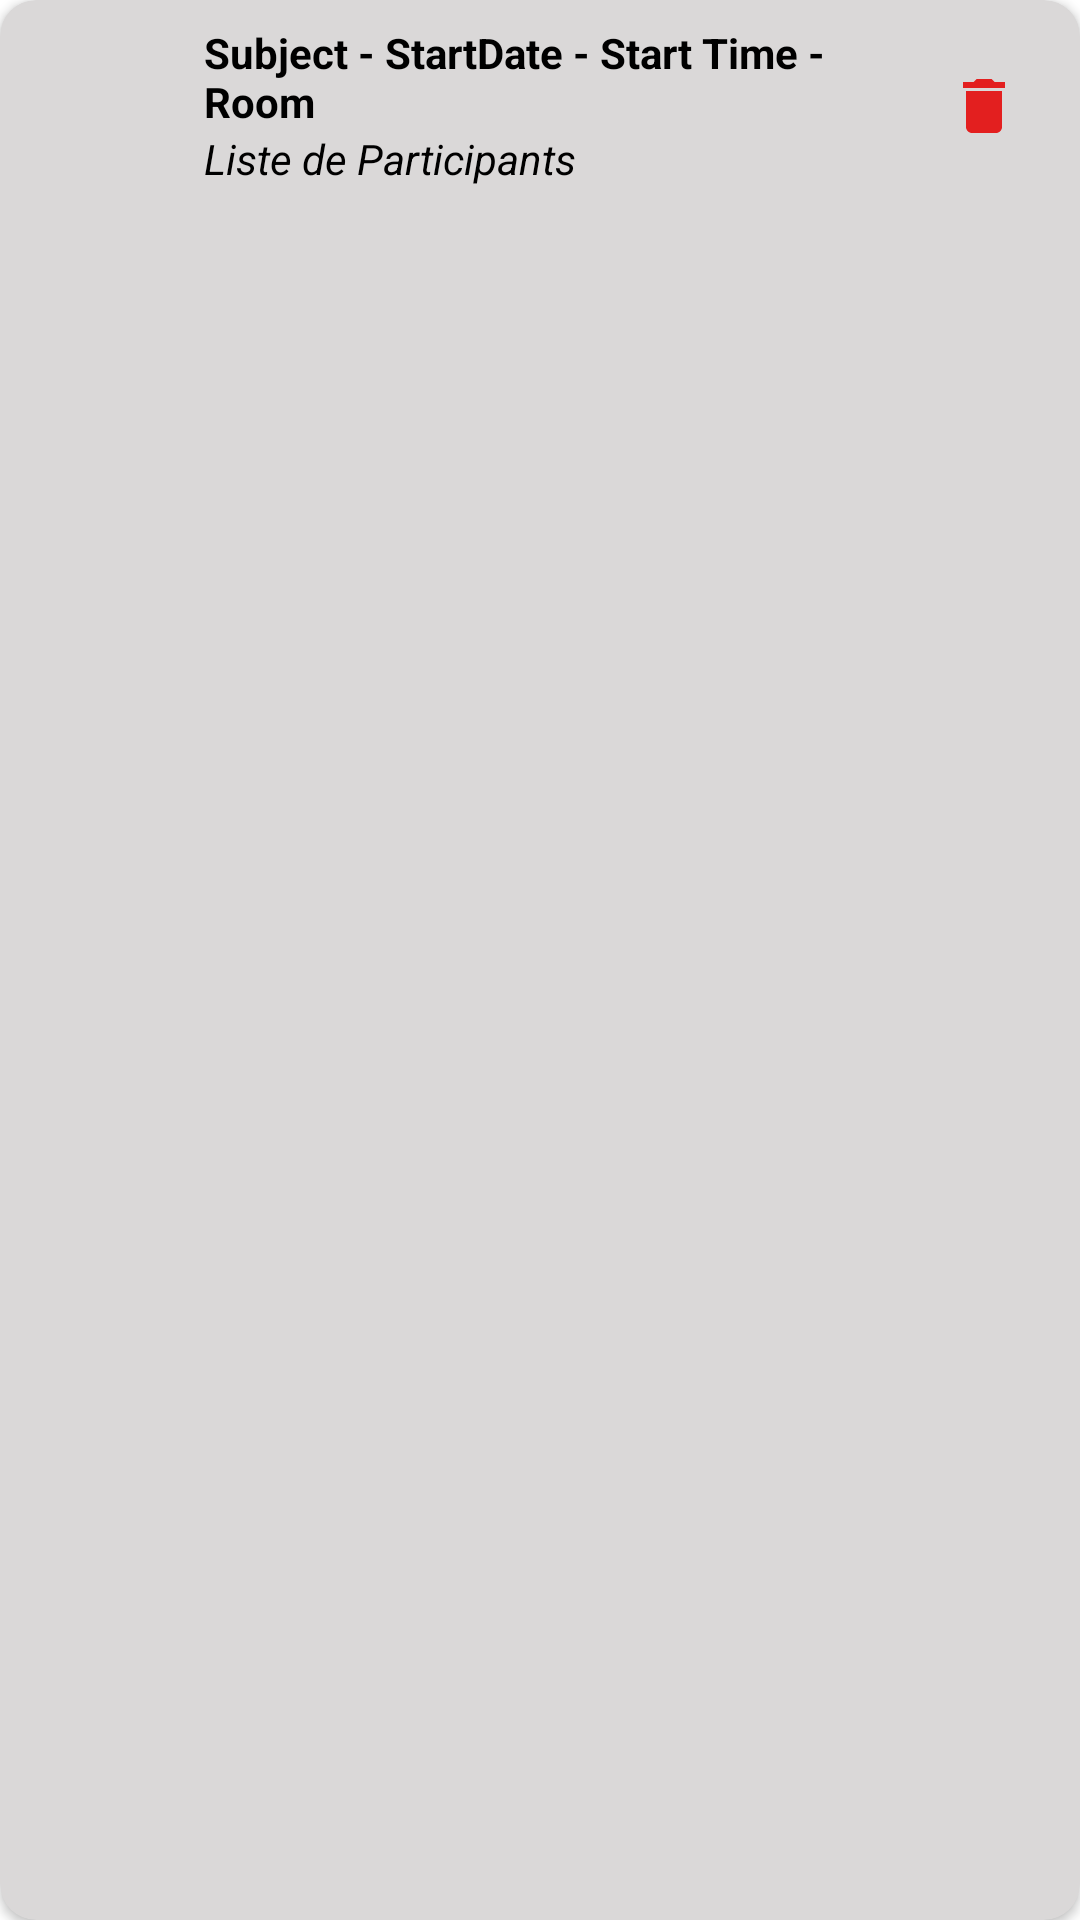

Where to tap for icons on this 1080*1920 app screen, as [x,y]:
Supprimer la réunion: [984,106]
